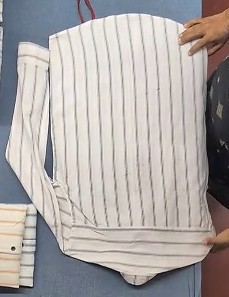T_SHIRT: (8, 28, 226, 245)
